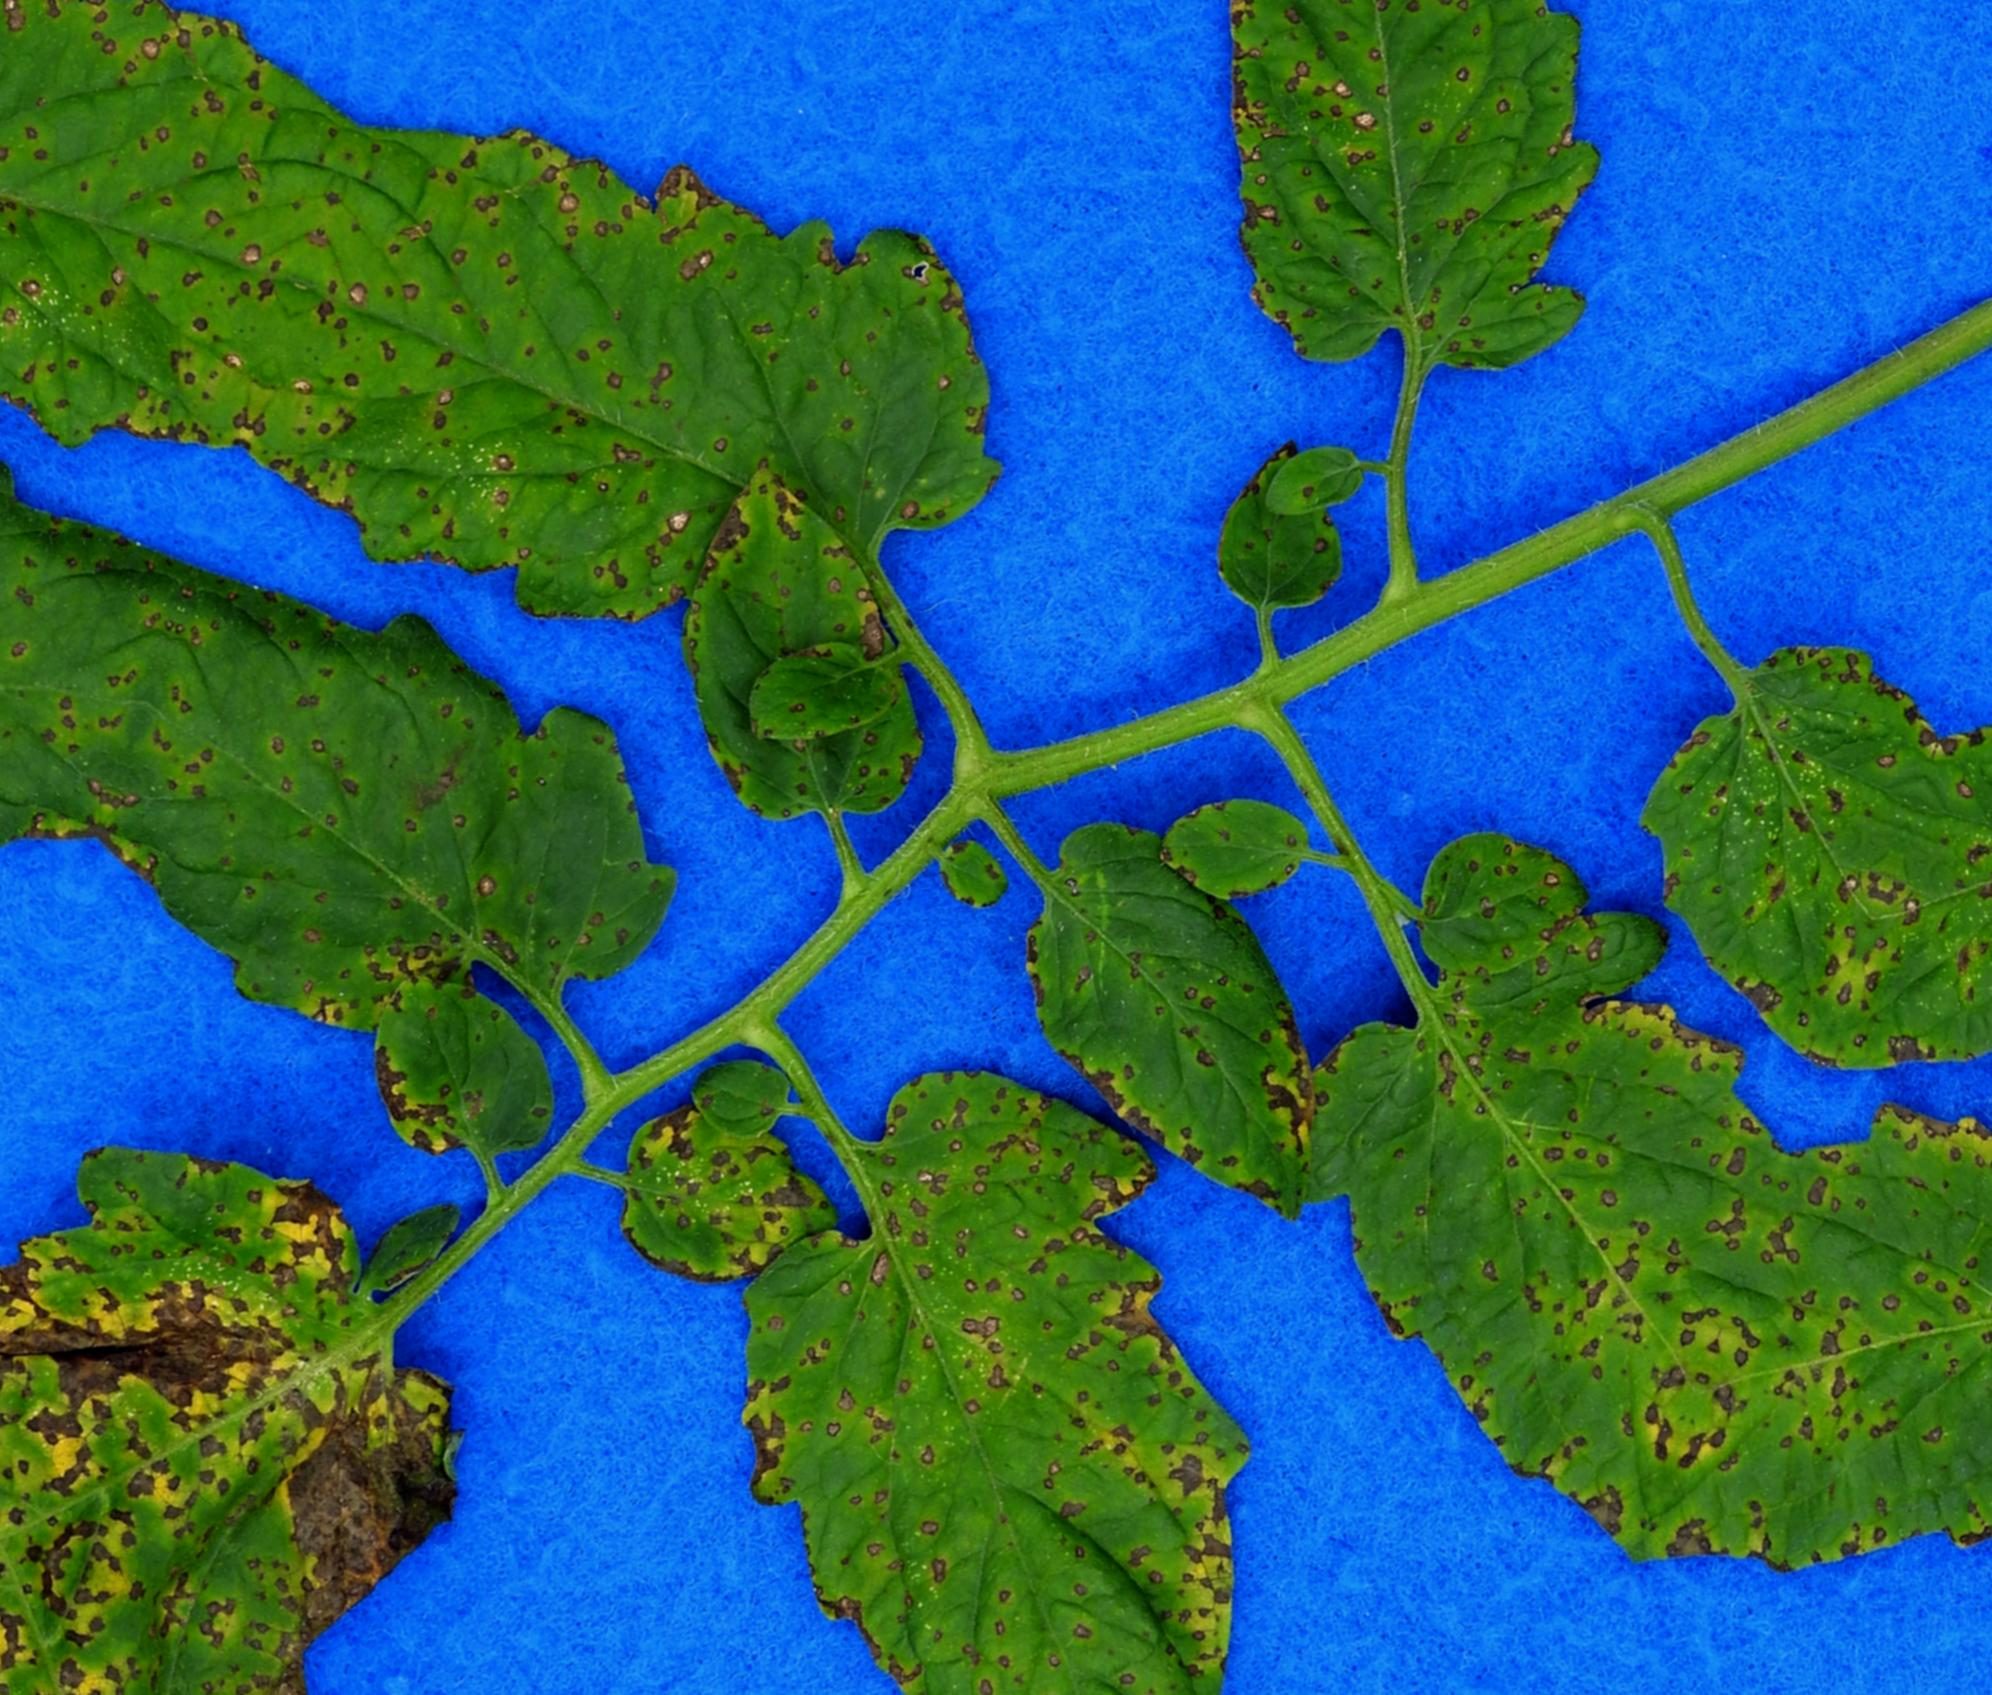Tomato Septoria leaf spot: (208, 34, 1194, 831), (8, 501, 755, 1271), (593, 1009, 1422, 1695), (1135, 822, 1842, 1611), (0, 1048, 595, 1695), (1030, 0, 1720, 469), (1518, 570, 1965, 1130), (940, 800, 1405, 1236), (593, 442, 1009, 915)
